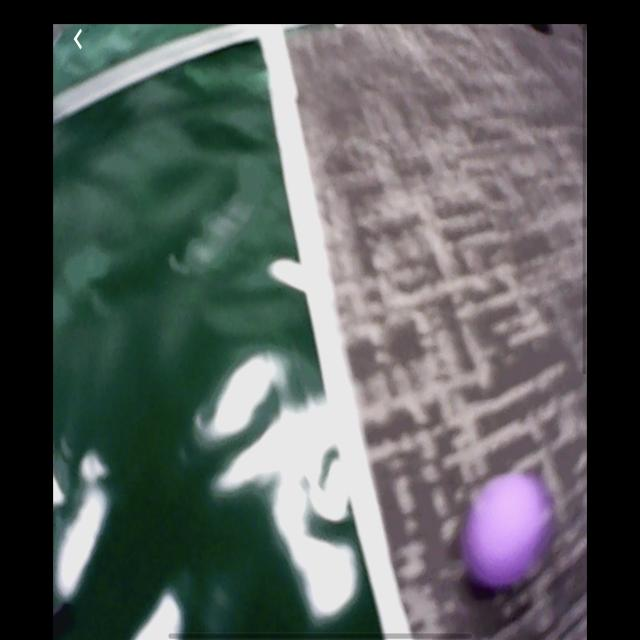ball: (460, 471, 558, 594)
